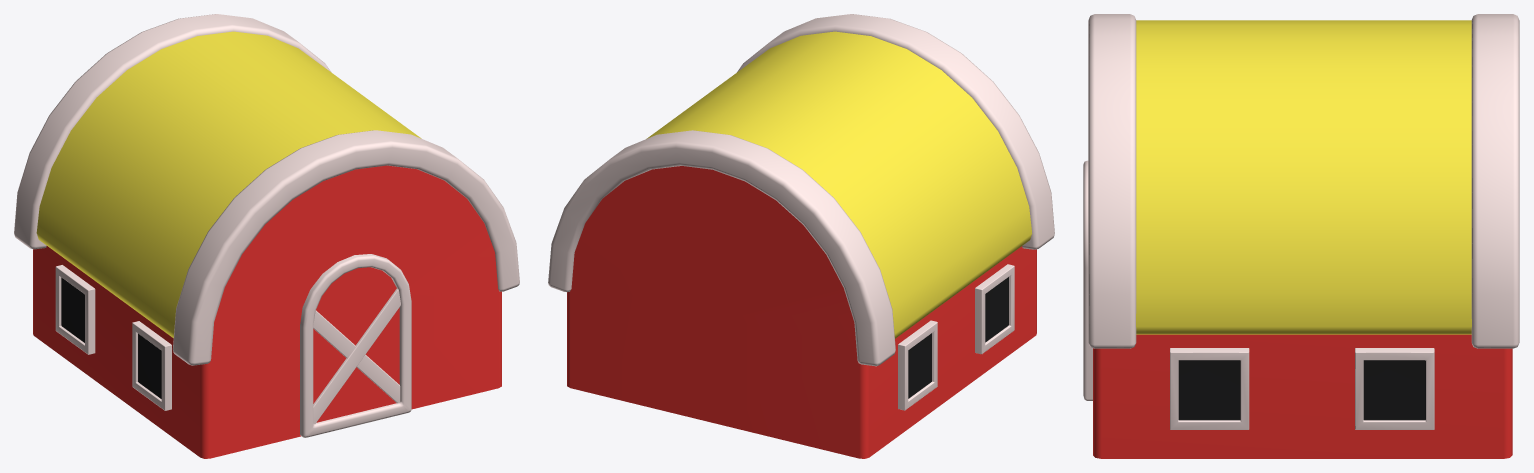
Rendered from Farm_13_Small_Barn_1.glb.
3 views of the same model, side by side, from view 1: azimuth 30°, elevation 25°; view 2: azimuth 150°, elevation 25°; view 3: azimuth 270°, elevation 25° (orthographic). The views are drawn at different scales.
Parts seen in each view (by area): view 1: Farm_13_Small_Barn_1; view 2: Farm_13_Small_Barn_1; view 3: Farm_13_Small_Barn_1.
Part boxes in pixels (<box>): Farm_13_Small_Barn_1: <box>14,14,519,458</box>; Farm_13_Small_Barn_1: <box>548,14,1054,458</box>; Farm_13_Small_Barn_1: <box>1083,14,1519,458</box>.
Size of the model in its own units: 5.04 by 4.03 by 4.76.
Materials: 1 (1 with a texture image).
